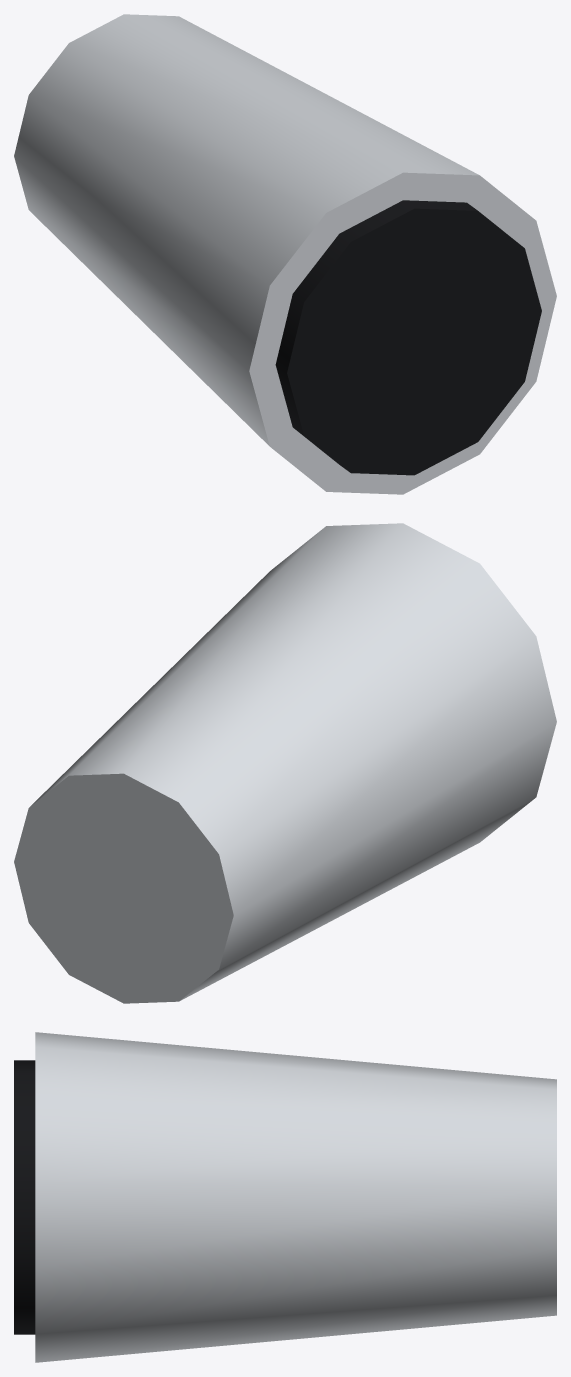
The model's file is exhaust_big.glb.
3 views of the same model, one above another, from view 1: azimuth 30°, elevation 25°; view 2: azimuth 150°, elevation 25°; view 3: azimuth 270°, elevation 25° (orthographic). The views are drawn at different scales.
Visible parts, largest first — view 1: exhaust_big__mesh; view 2: exhaust_big__mesh; view 3: exhaust_big__mesh.
Part boxes in pixels (<box>): exhaust_big__mesh: <box>14,14,556,494</box>; exhaust_big__mesh: <box>14,523,556,1003</box>; exhaust_big__mesh: <box>14,1032,556,1362</box>.
Size of the model in its own units: 0.14 by 0.14 by 0.229.
1 material, 1 textured.
